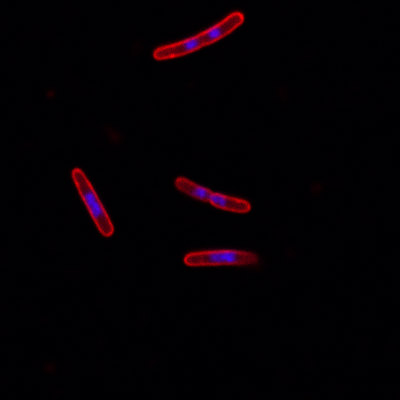Nalidixate: (151, 10, 245, 61), (68, 166, 116, 239), (172, 175, 252, 214)
Oblique: (181, 249, 263, 267)
